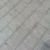others: (1, 1, 47, 49)
